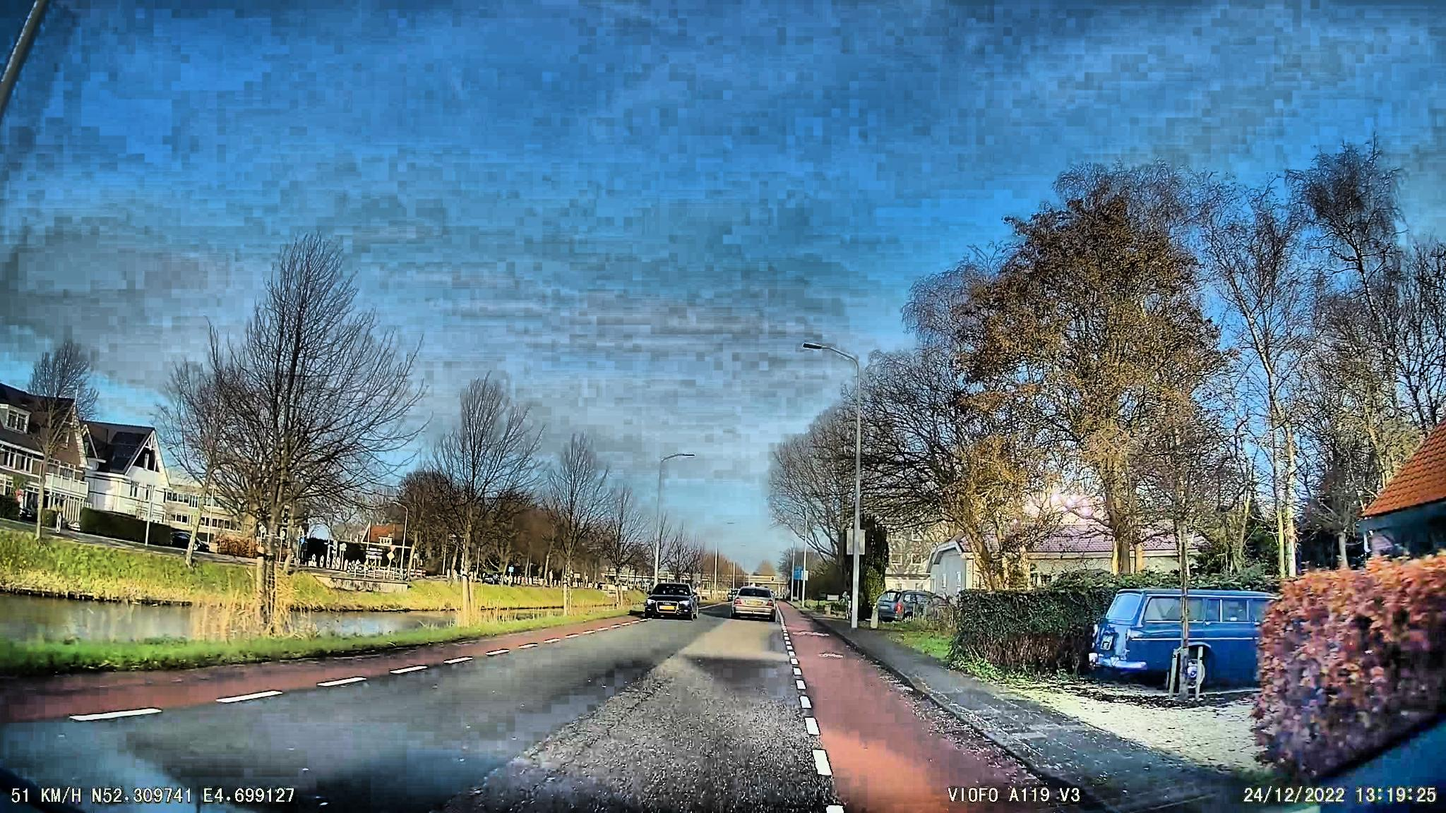Roads: (0, 612, 1059, 813)
